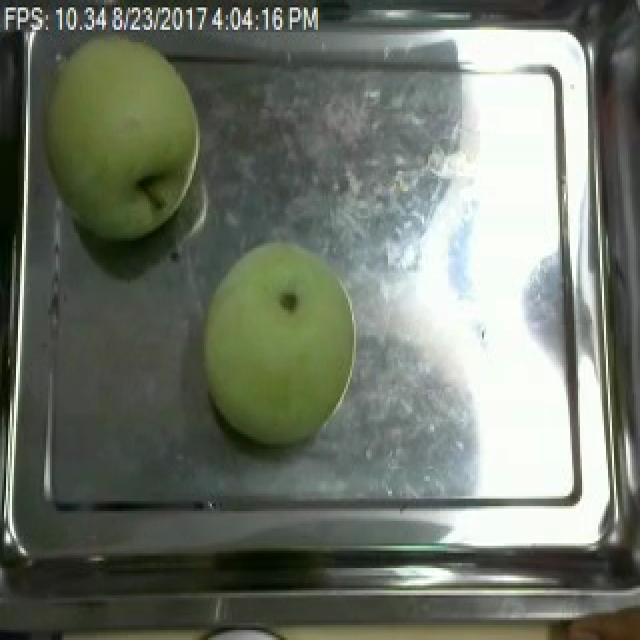50-_ripeness: (194, 233, 369, 462), (44, 37, 206, 250)
